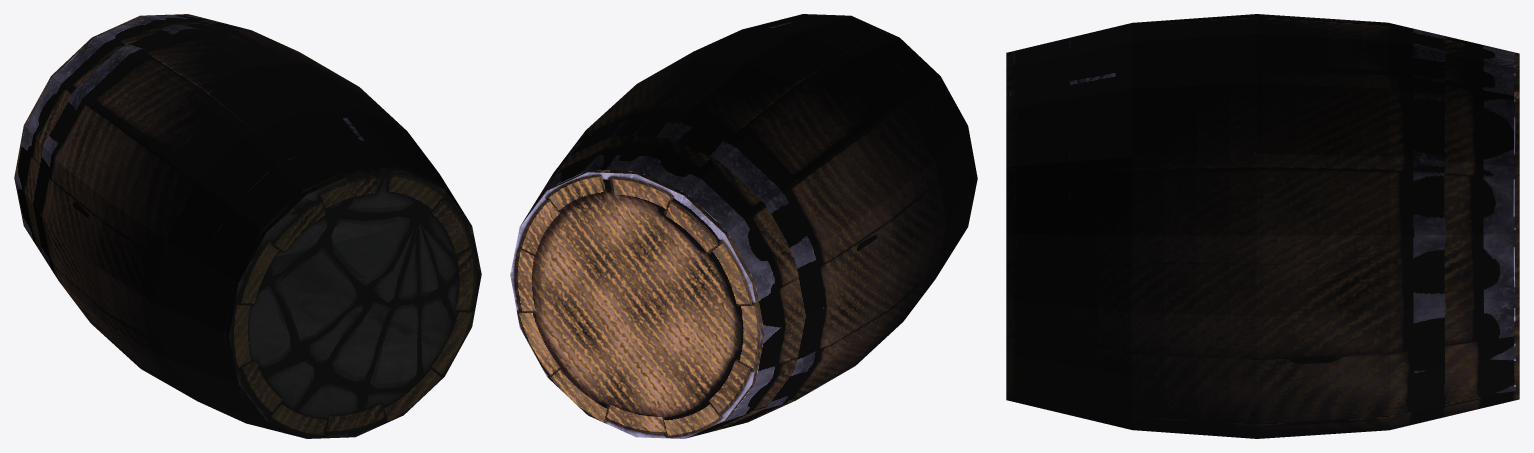
Rendered from ex_Barrel0.obj.
The picture shows the model from 3 angles, left to right: view 1: azimuth 30°, elevation 25°; view 2: azimuth 150°, elevation 25°; view 3: azimuth 270°, elevation 25°; orthographic projection. The views are drawn at different scales.
Visible parts, largest first — view 1: BarrelLoRes_Cylinder.005; view 2: BarrelLoRes_Cylinder.005; view 3: BarrelLoRes_Cylinder.005.
Boxes of the visible parts, x1,y1,x2,y2 form: BarrelLoRes_Cylinder.005: (14,14,481,438); BarrelLoRes_Cylinder.005: (510,14,977,438); BarrelLoRes_Cylinder.005: (1006,14,1519,438).
Bounding box in the file's own units: 68.11 × 68.11 × 82.19.
1 material, 1 textured.
